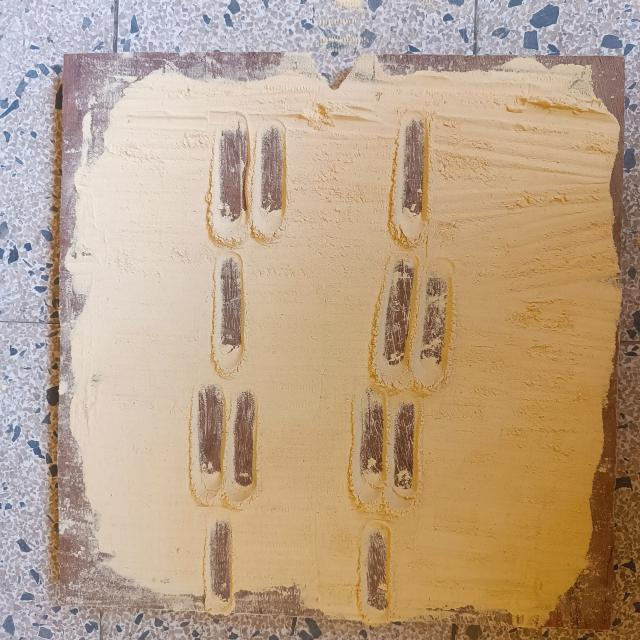double: (368, 258, 460, 391), (210, 108, 290, 246), (187, 382, 262, 510), (346, 393, 424, 515)
single: (386, 113, 435, 246), (209, 250, 249, 378), (356, 520, 396, 620), (200, 512, 238, 610)
